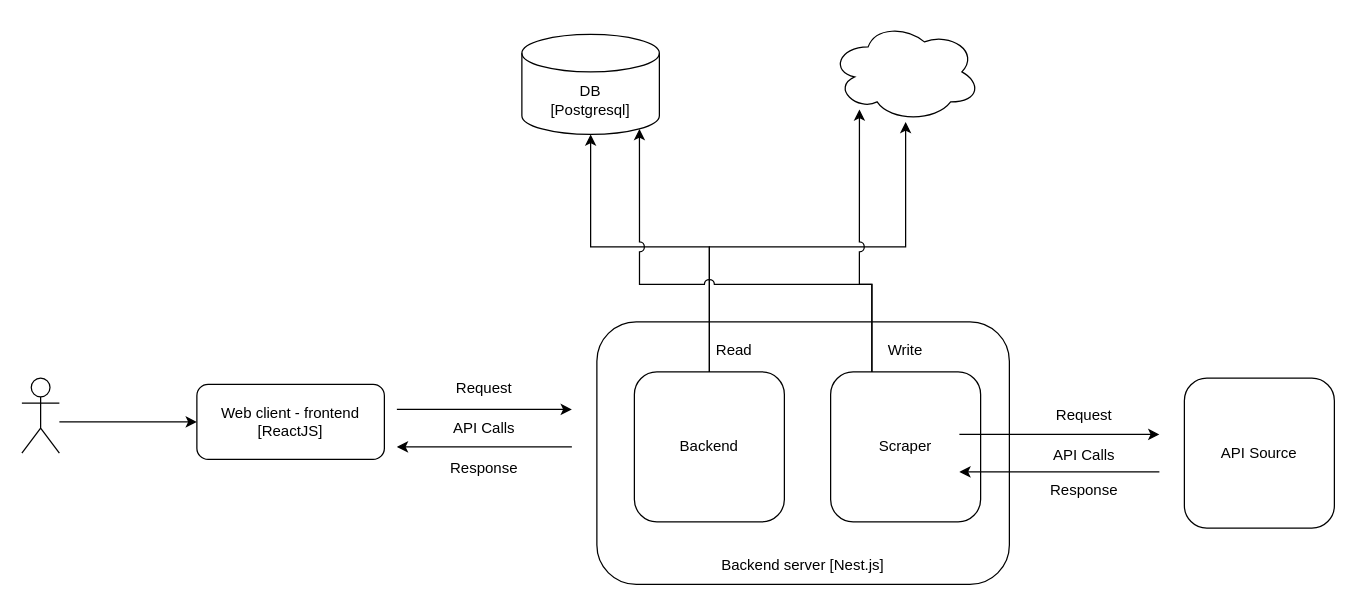
Image size: 1356x606. Some labels were removed from this diagram. The centre of each missing label's shape, as x and y in pixels:
"Storage [MinIO]" goes at (x=905, y=71).
"User" goes at (x=40, y=415).
